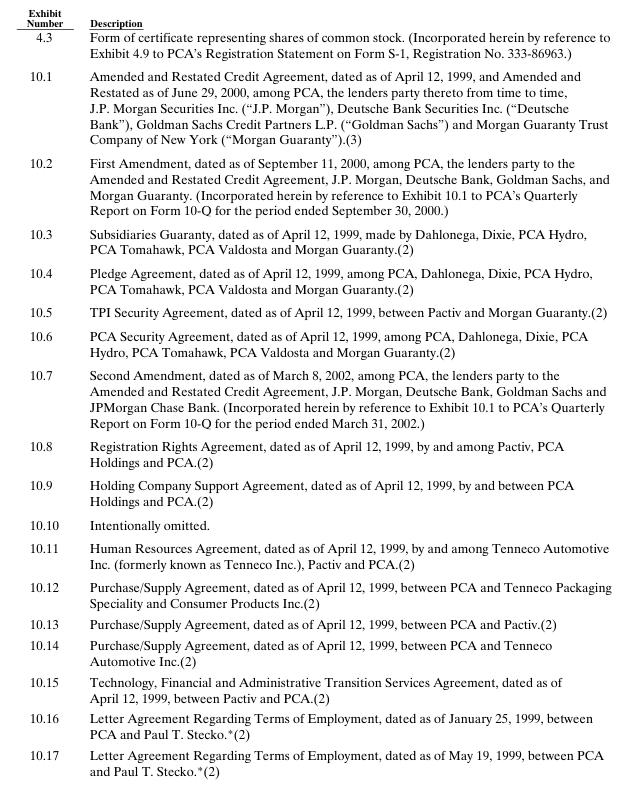table: (28, 28, 610, 778)
table column: (73, 28, 610, 778), (28, 28, 73, 778)
table row: (28, 64, 610, 150), (28, 150, 610, 221), (28, 362, 610, 433), (28, 260, 610, 300), (28, 472, 610, 512), (28, 535, 610, 575), (28, 221, 610, 260), (28, 323, 610, 362), (28, 433, 610, 472), (28, 575, 610, 613), (28, 670, 610, 707), (28, 707, 610, 744), (28, 28, 610, 64), (28, 634, 610, 670), (28, 744, 610, 778), (28, 300, 610, 323), (28, 512, 610, 535), (28, 613, 610, 634)
